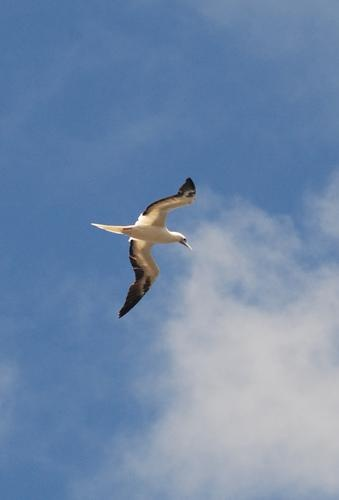bird: (93, 177, 200, 322)
